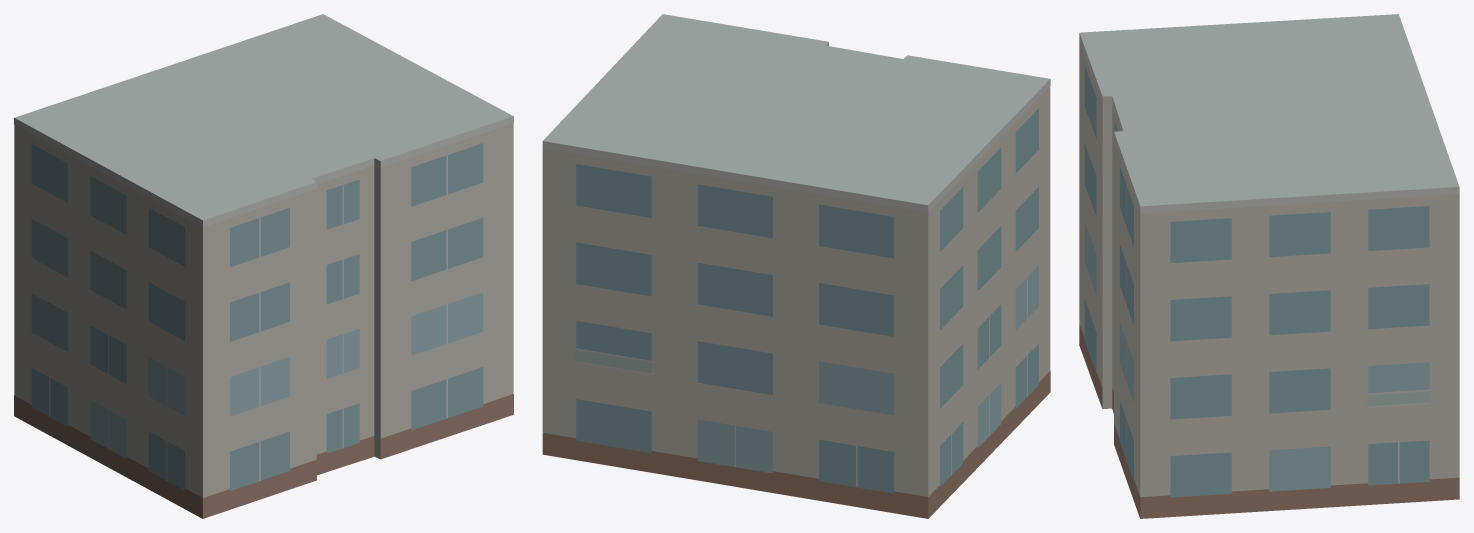
Rendered from survey-upis-32977175.glb.
The picture shows the model from 3 angles, left to right: view 1: azimuth 30°, elevation 25°; view 2: azimuth 150°, elevation 25°; view 3: azimuth 270°, elevation 25°; orthographic projection. The views are drawn at different scales.
Visible parts, largest first — view 1: survey-upis-32977175.tmp; view 2: survey-upis-32977175.tmp; view 3: survey-upis-32977175.tmp.
Boxes of the visible parts, bbox=[...] form: survey-upis-32977175.tmp: bbox=[14, 14, 513, 518]; survey-upis-32977175.tmp: bbox=[542, 14, 1050, 518]; survey-upis-32977175.tmp: bbox=[1079, 14, 1459, 518].
Size of the model in its own units: 14 by 10.6 by 11.7.
